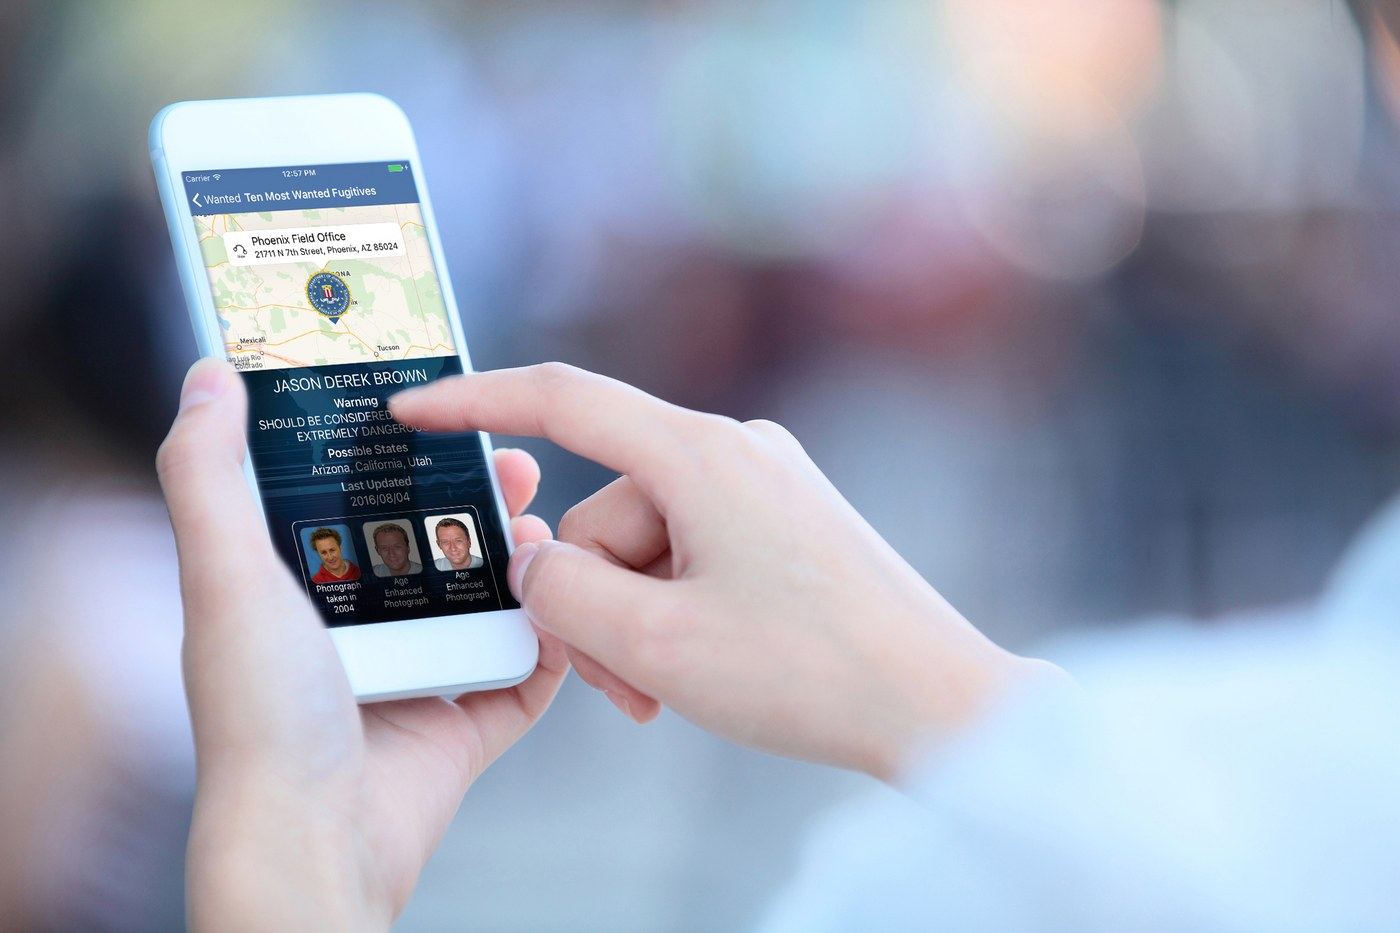smartphone: (147, 89, 541, 707)
